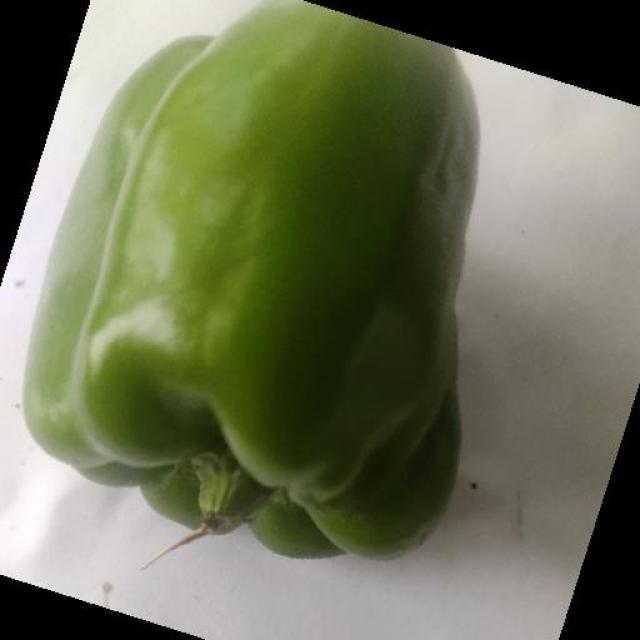Fresh_Capsicum: (106, 27, 475, 575)
